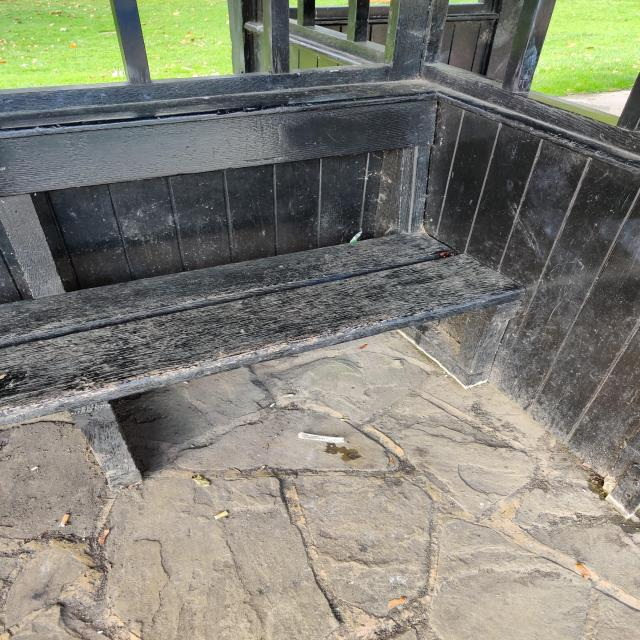litter: (297, 431, 344, 443), (212, 510, 229, 520), (59, 515, 71, 528)
